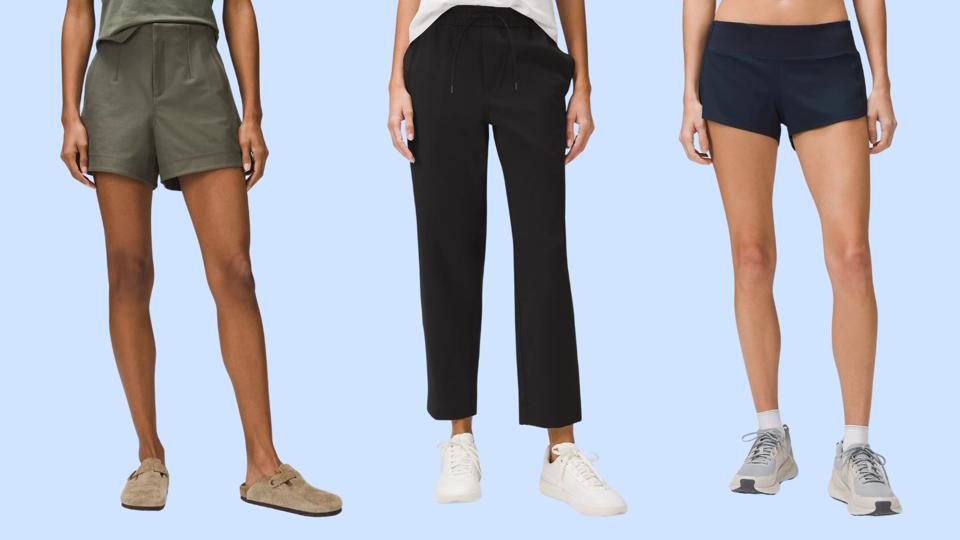Shorts: (72, 19, 256, 191), (693, 15, 873, 148)
trousers: (401, 4, 581, 431)
